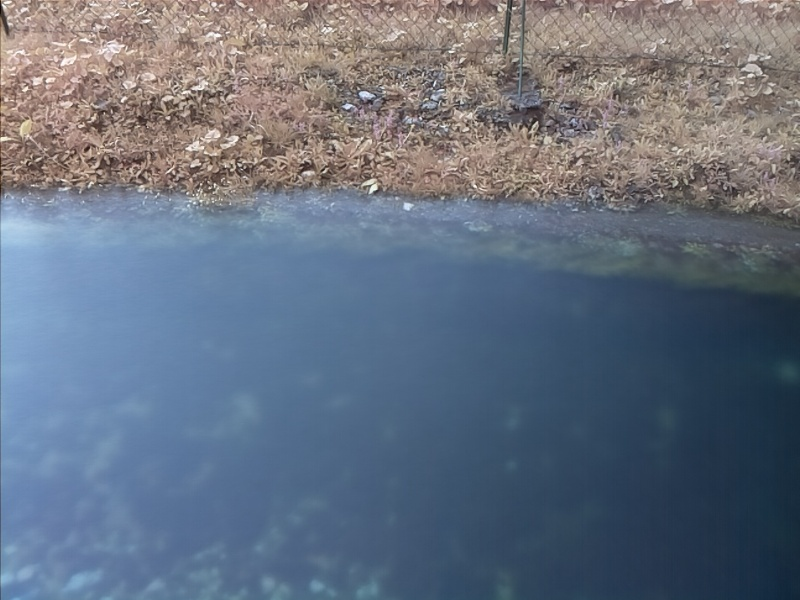Water: (1, 186, 798, 600)
